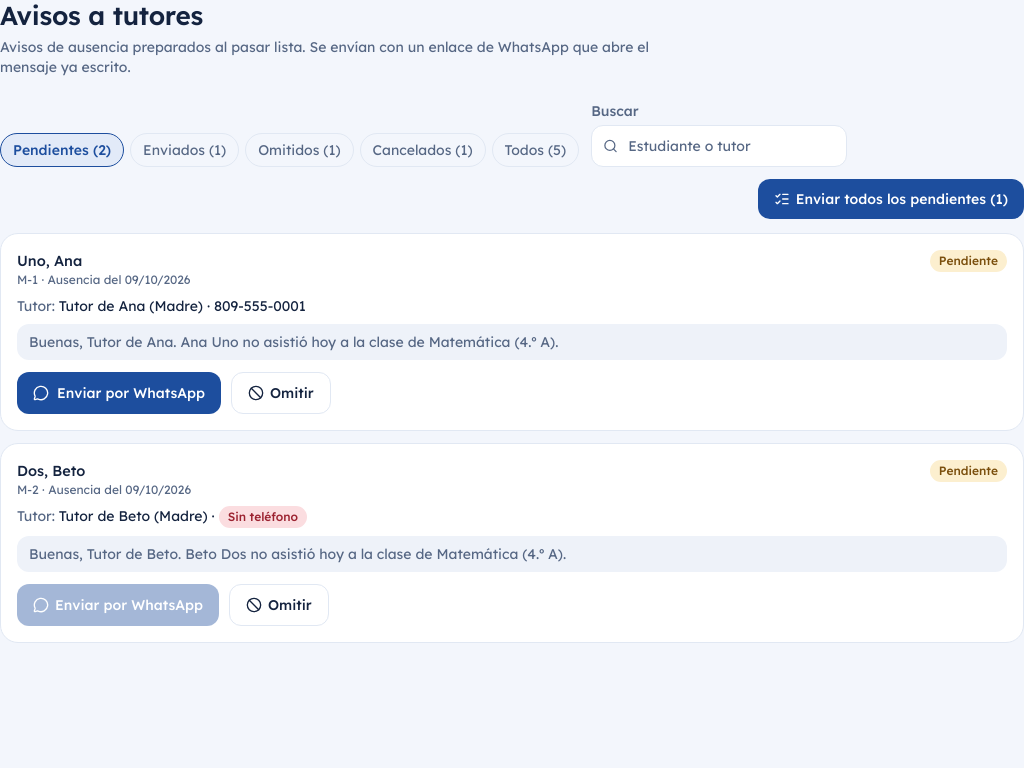
it: Avisos a tutores › muestra el error cuando la base de datos rechaza el cambio
Click the button "Omitir" below "Tutor de Ana (Madre)".
click(281, 393)  # box [231, 372, 331, 414]
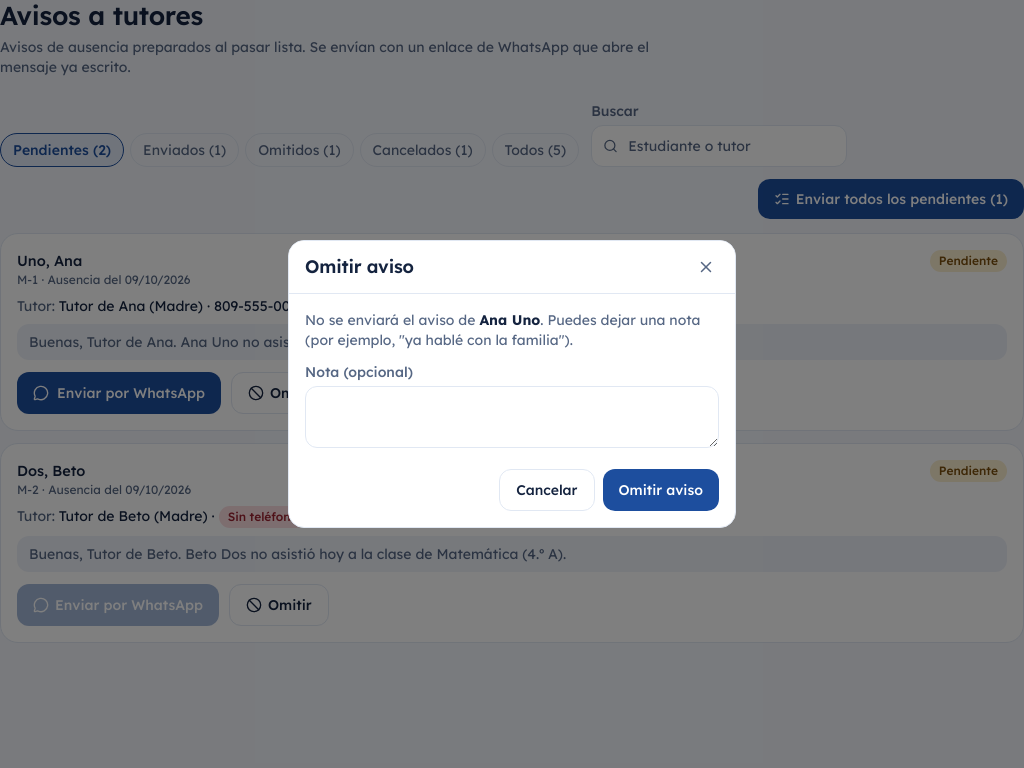
Click the button "Omitir aviso".
click(661, 490)  # box [602, 469, 719, 511]
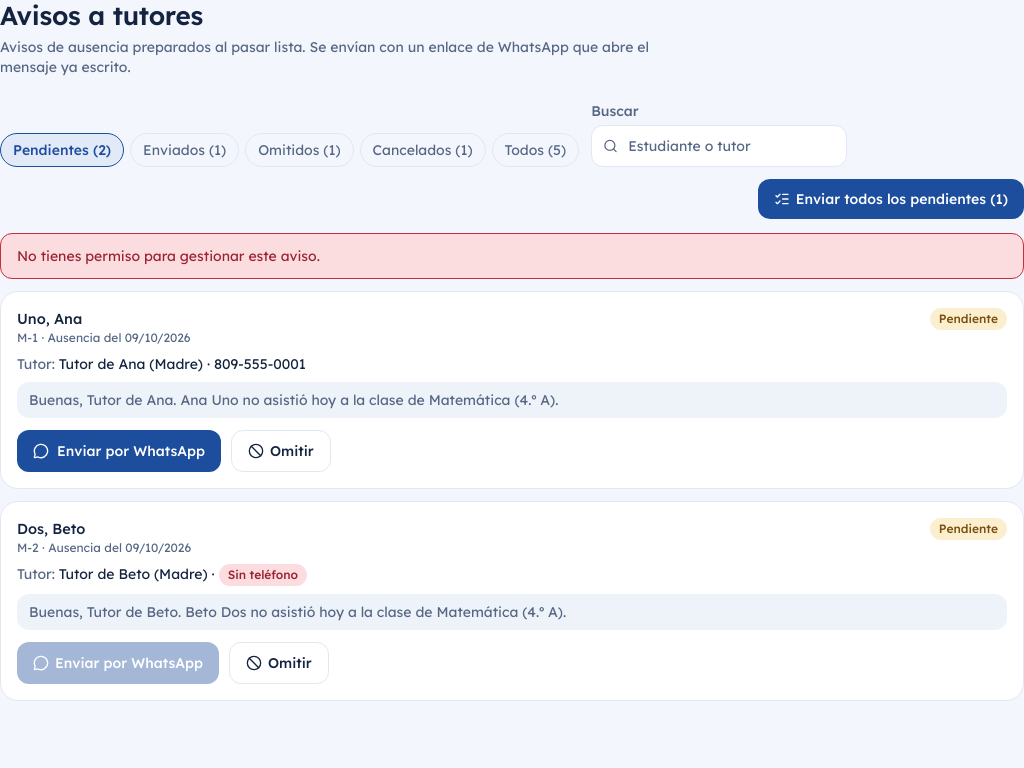
Check: the text "No tienes permiso para gestionar este aviso." is shown, box [0, 232, 1023, 278]
